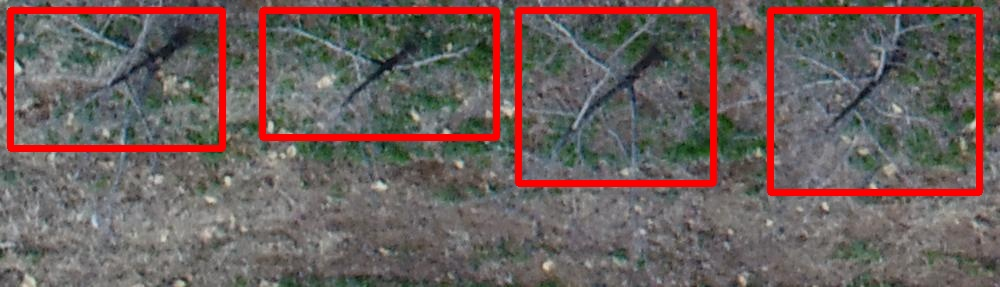apple: (770, 10, 979, 192), (518, 10, 713, 183), (262, 10, 496, 137), (10, 10, 222, 148)
